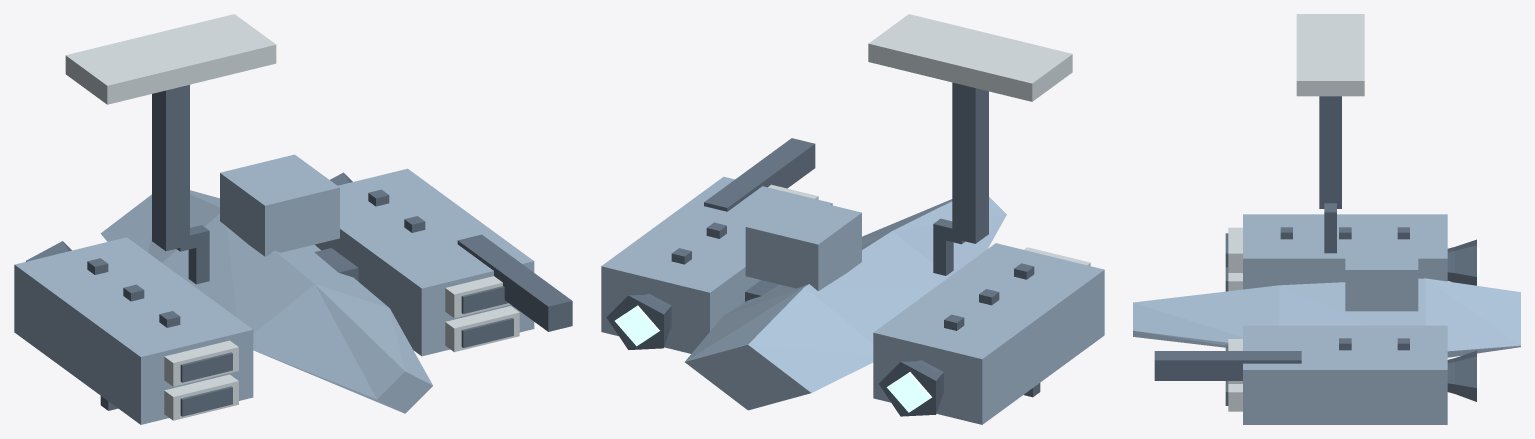
The picture shows the model from 3 angles, left to right: view 1: azimuth 30°, elevation 25°; view 2: azimuth 150°, elevation 25°; view 3: azimuth 270°, elevation 25°; orthographic projection. The views are drawn at different scales.
Size of the model in its own units: 13.04 by 10.8 by 13.72.
